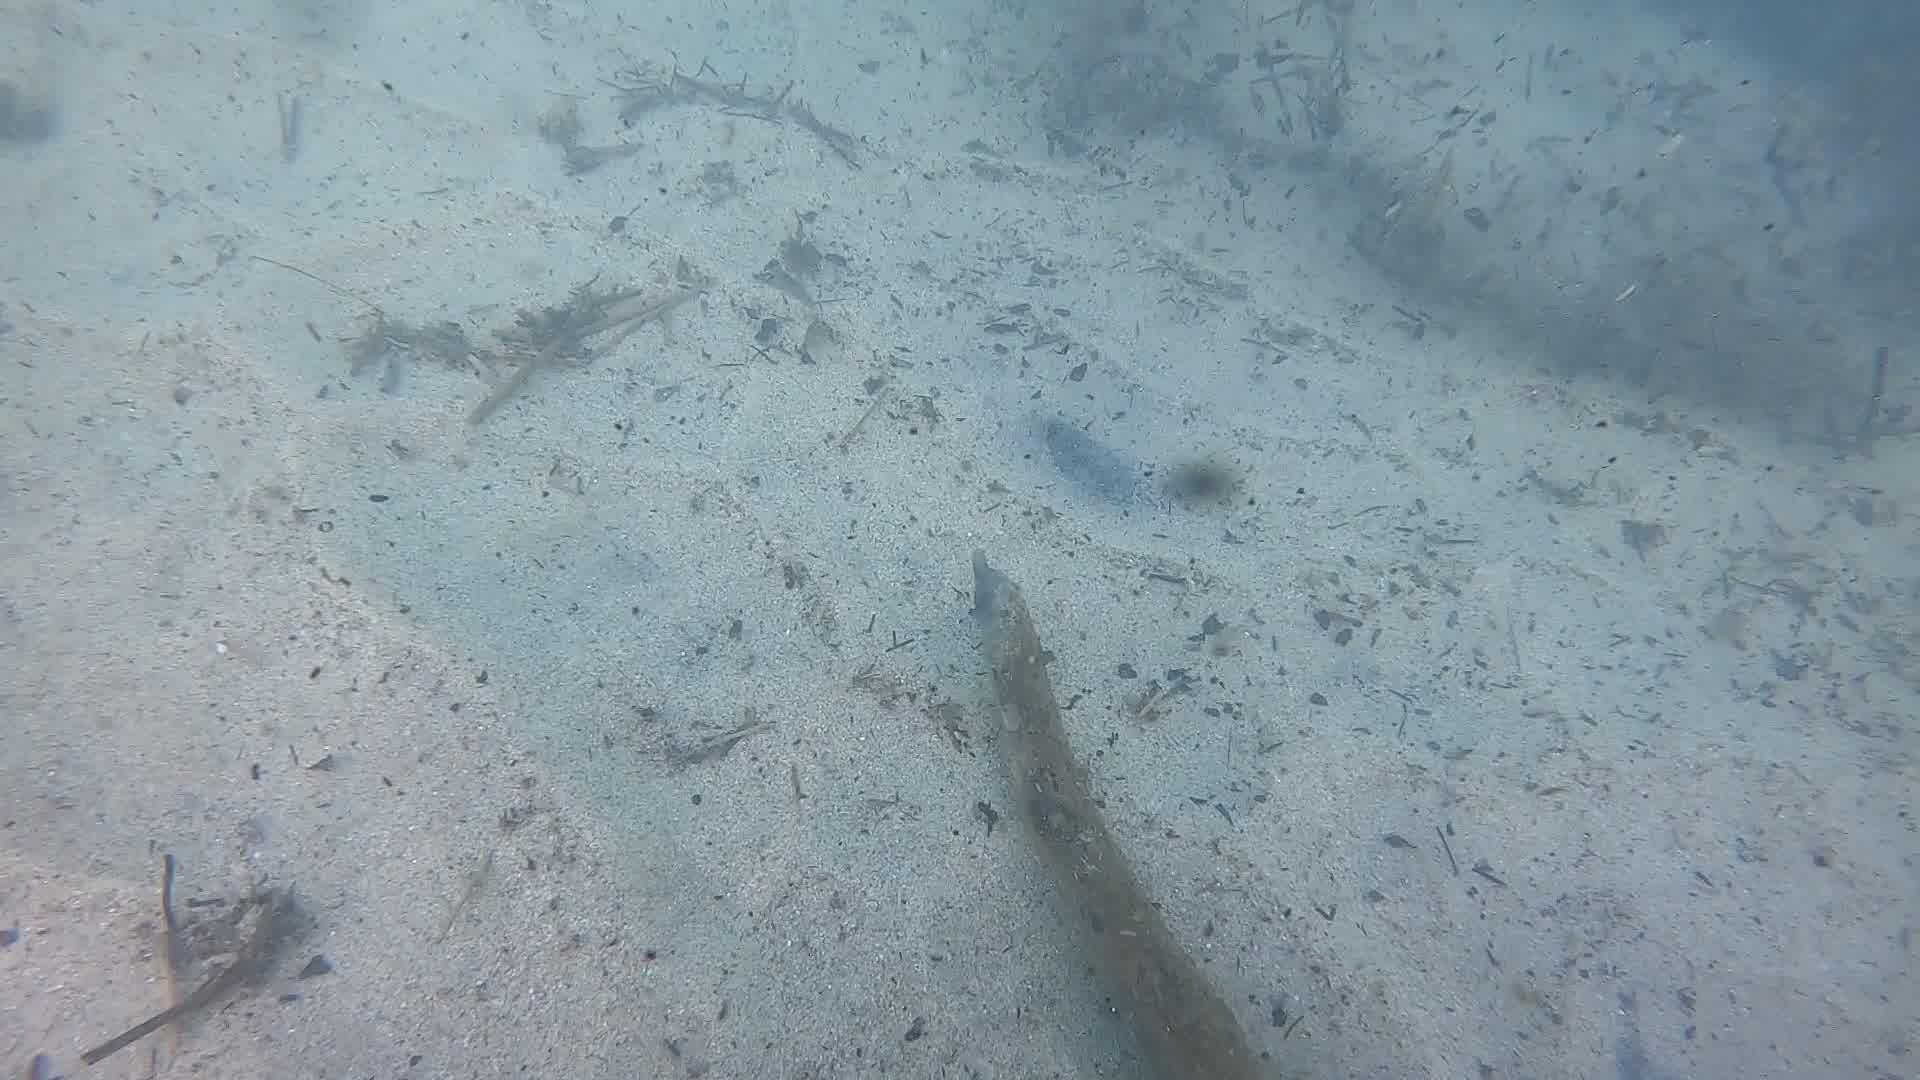wood: (971, 551, 1251, 1080)
